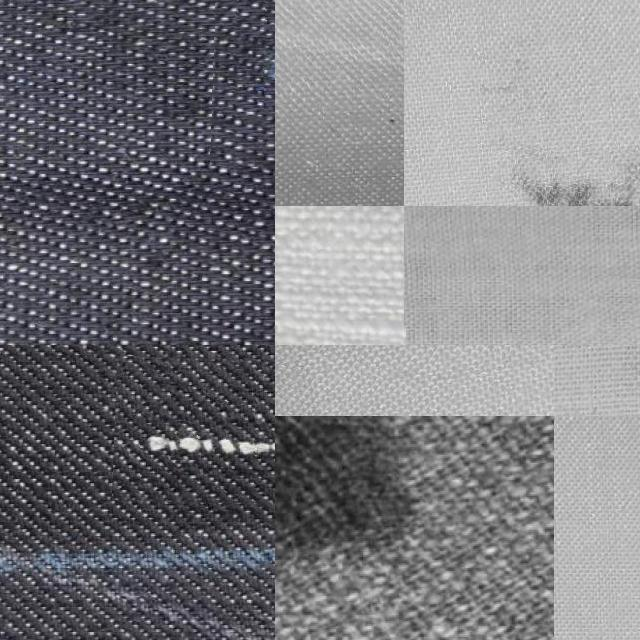Thread_other: (467, 0, 640, 205)
stains: (113, 359, 275, 510), (212, 0, 275, 168)
